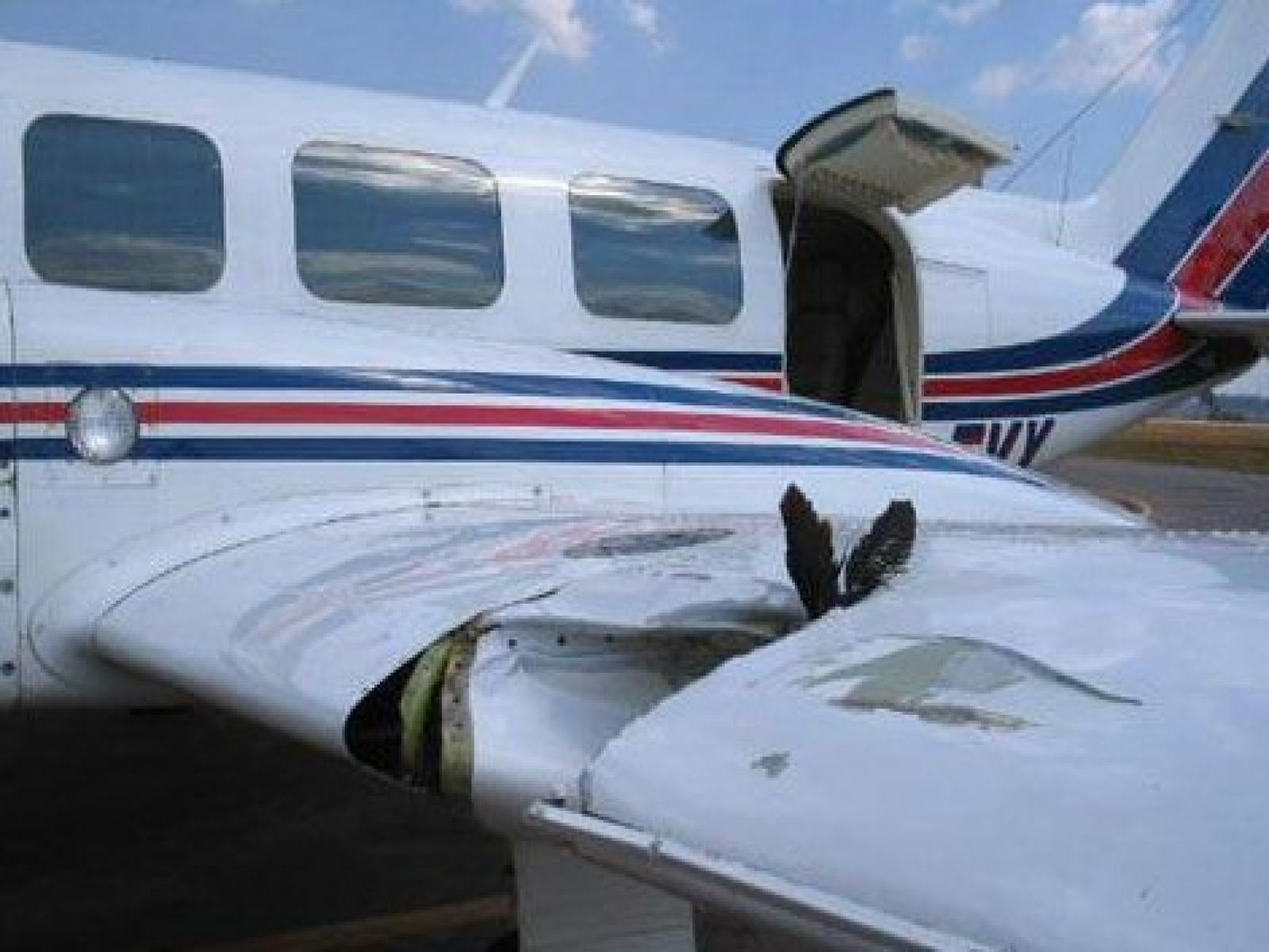Skin_Cover: (442, 571, 800, 832)
Wing_damage: (442, 625, 754, 823), (358, 619, 488, 796), (345, 652, 420, 775), (439, 634, 477, 796), (674, 625, 779, 652)
